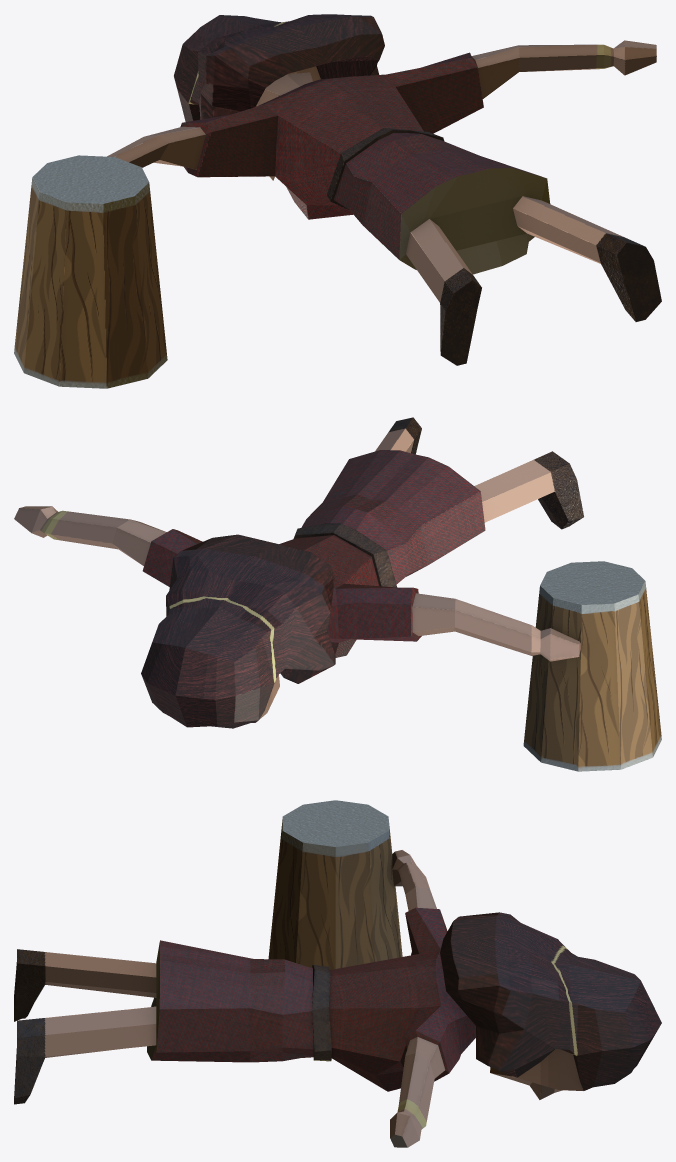
File: Aldeana_Sin_Agua.obj
3 views of the same model, one above another, from view 1: azimuth 30°, elevation 25°; view 2: azimuth 150°, elevation 25°; view 3: azimuth 270°, elevation 25° (orthographic). The views are drawn at different scales.
Visible parts, largest first — view 1: Aldeana.001; view 2: Aldeana.001; view 3: Aldeana.001.
Boxes of the visible parts, bbox=[...] form: Aldeana.001: bbox=[14, 14, 661, 388]; Aldeana.001: bbox=[14, 417, 661, 771]; Aldeana.001: bbox=[14, 800, 661, 1147].
Size of the model in its own units: 2.78 by 0.7809 by 2.46.
1 material, 1 textured.
